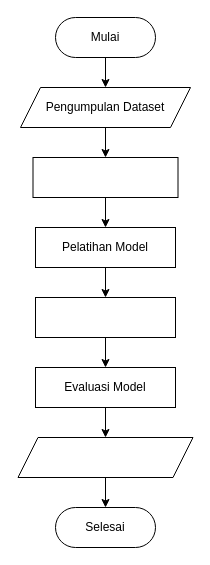
Some shapes in this 210 by 565 pixel diagram are drawn without their labels. Each missing label, with the box of its shape:
Hasil Prediksi Jenis Kulit & Rekomendasi Skincare: (17, 436, 193, 478)
Pengujian Model: (34, 296, 176, 338)
Pre-processing: (32, 156, 178, 198)
